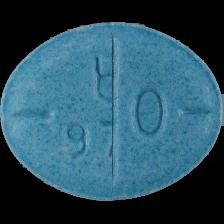63629-3730: (0, 0, 224, 224)
